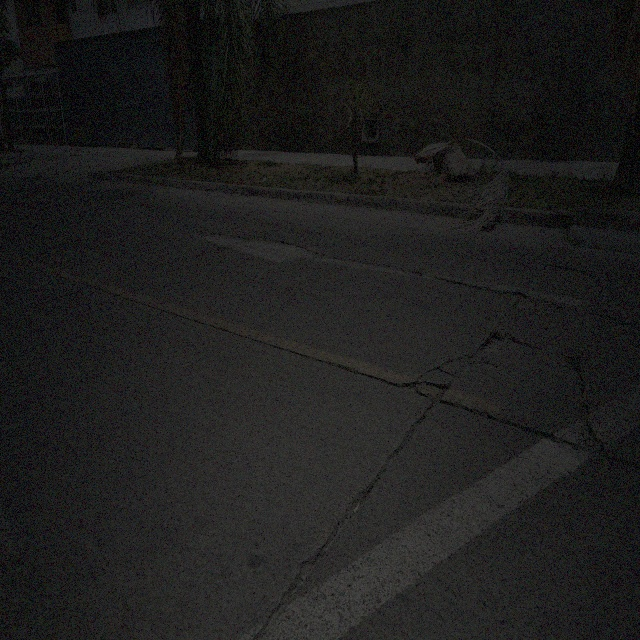pothole: (478, 326, 530, 354), (410, 376, 449, 401), (596, 265, 611, 305), (562, 348, 582, 375), (601, 310, 627, 330), (513, 292, 539, 310)
